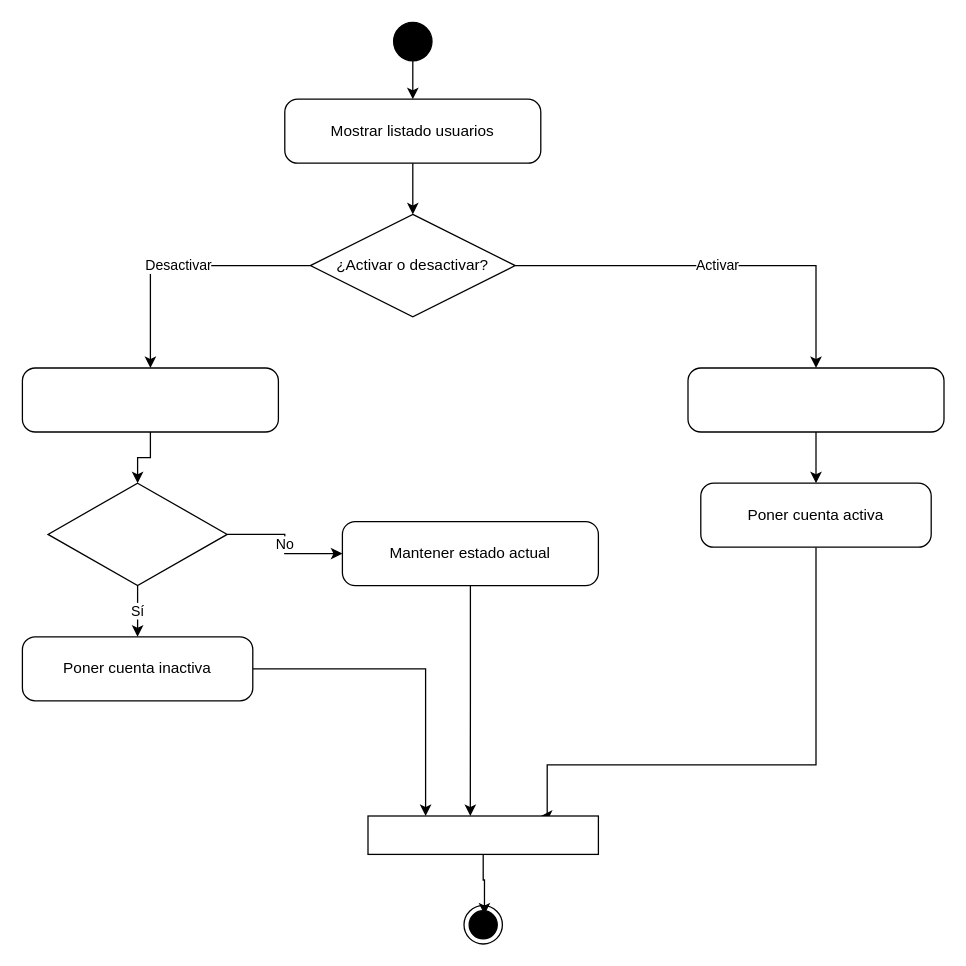
Some shapes in this 966 by 966 pixel diagram are drawn without their labels. Here are the shapes that lost their labels. From the top down, the centre of each, then its label:
the point at 149,399: Presionar Desactivar cuenta
the point at 815,399: Presionar Activar cuenta
the point at 137,534: ¿Confirma?
